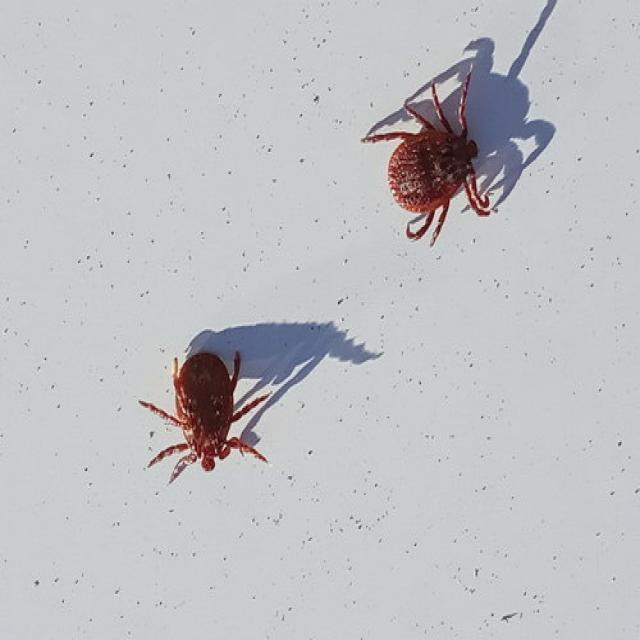Dermacentor Reticulatus-F: (361, 61, 492, 246)
